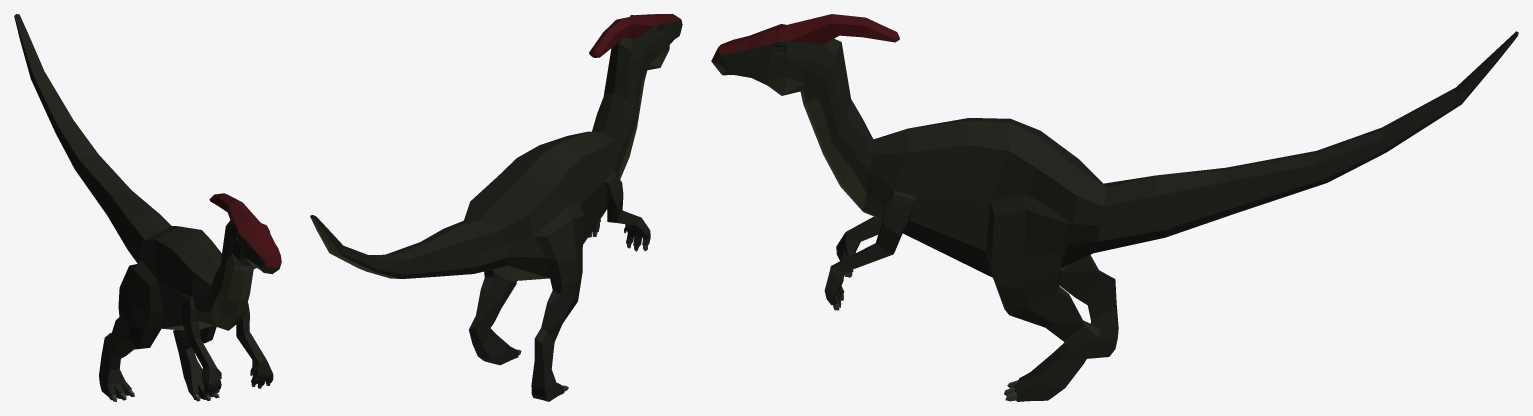
File: Parasaurolophus.obj
The picture shows the model from 3 angles, left to right: view 1: azimuth 30°, elevation 25°; view 2: azimuth 150°, elevation 25°; view 3: azimuth 270°, elevation 25°; orthographic projection. The views are drawn at different scales.
Visible parts, largest first — view 1: Parasaurolophus_Cylinder; view 2: Parasaurolophus_Cylinder; view 3: Parasaurolophus_Cylinder.
Boxes of the visible parts, x1=… form: Parasaurolophus_Cylinder: x1=14, y1=14, x2=281, y2=401; Parasaurolophus_Cylinder: x1=310, y1=14, x2=682, y2=401; Parasaurolophus_Cylinder: x1=711, y1=14, x2=1518, y2=401.
Size of the model in its own units: 1.96 by 5.76 by 11.79.
